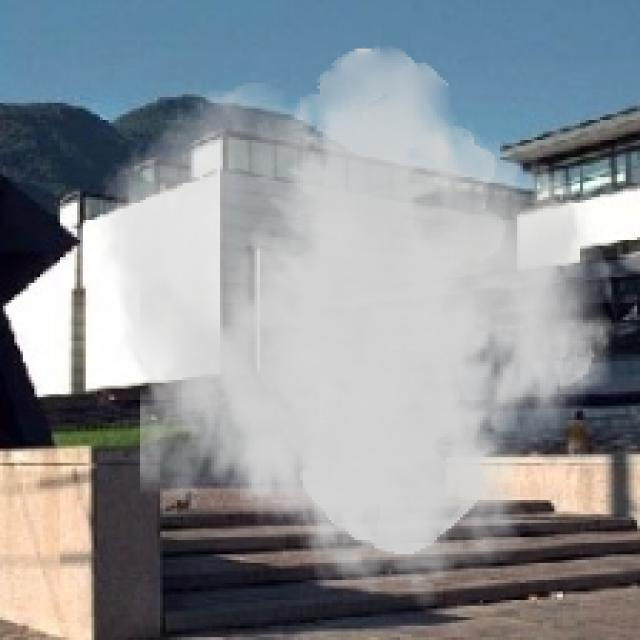smoke: (94, 46, 620, 611)
